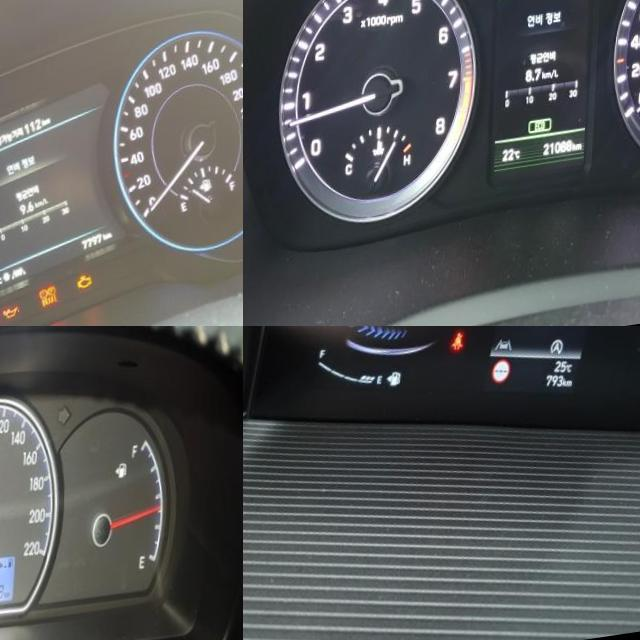LaneCenteringOff: (496, 344, 515, 363)
